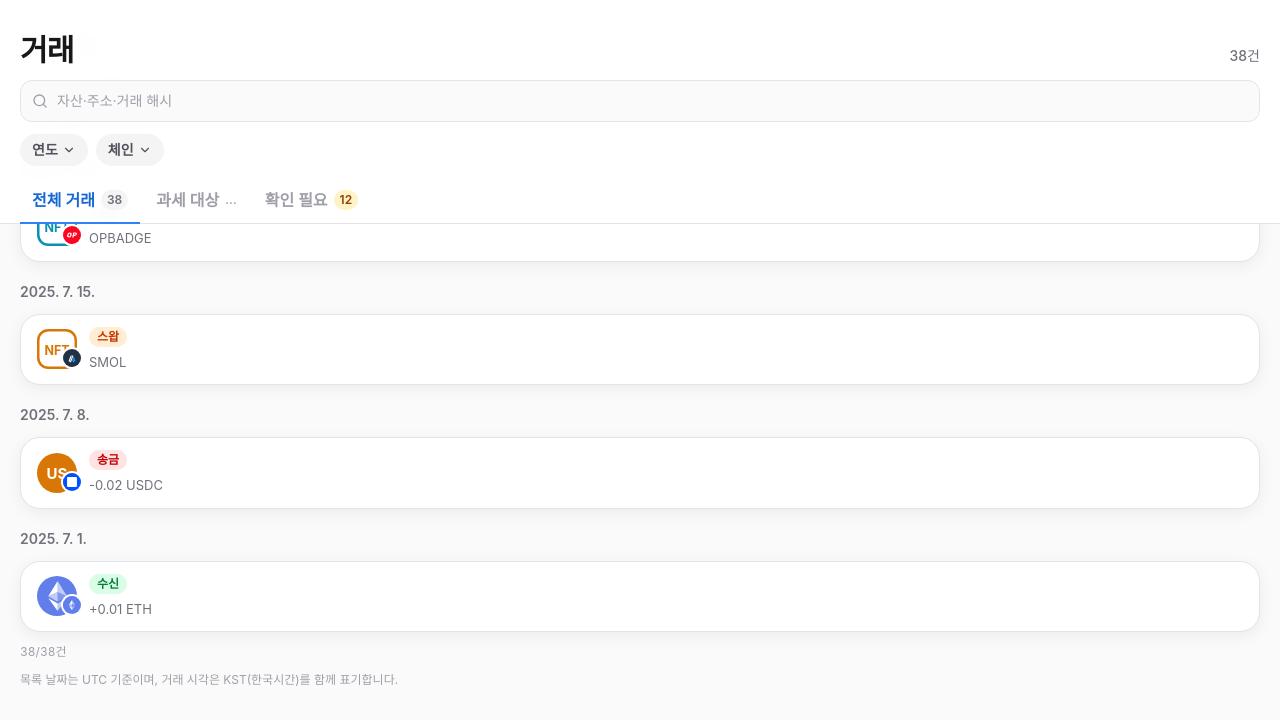
3세대 P1 경계 › 믿을 기간이 없으면 상세의 파생 계산도 돌리지 않는다
The width and height of the screenshot is (1280, 720).
(page scrolled)
Click the text "+0.01 ETH" at (120, 608), box [89,600,152,616]
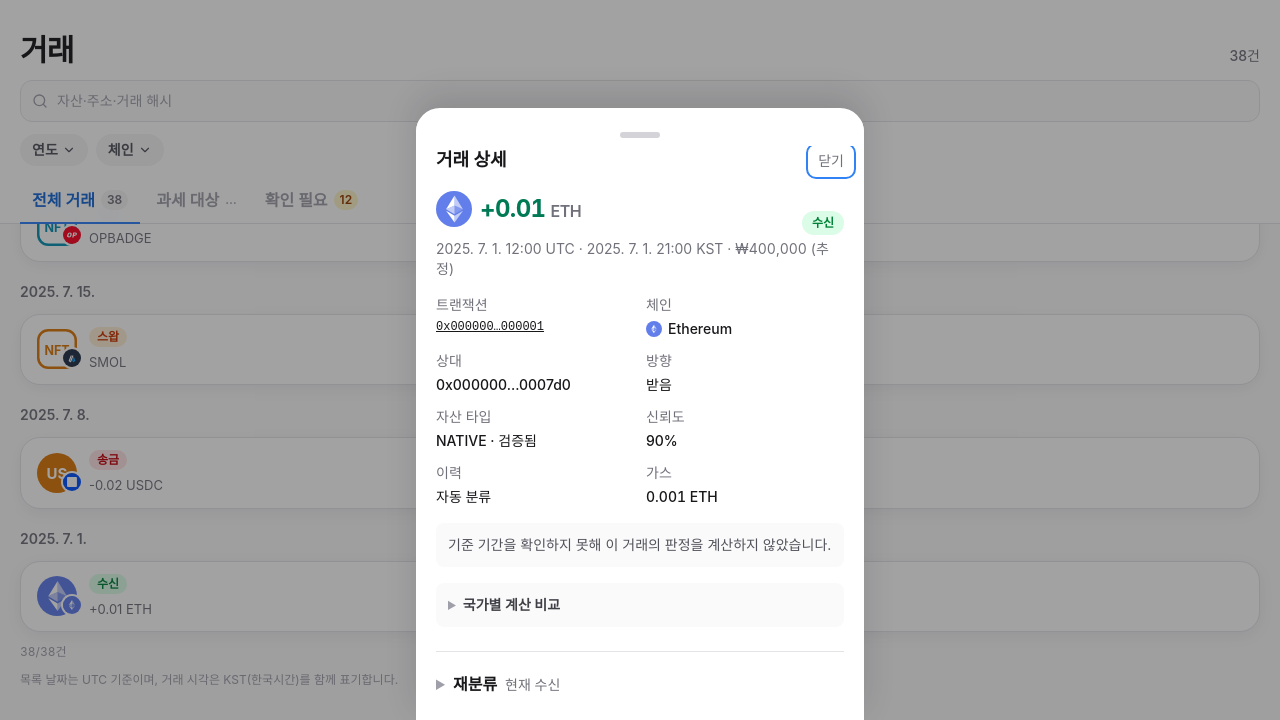
Check: the heading "거래 상세" is shown, box [436,146,506,174]
Check: the heading "국가별 계산 비교" is shown, box [463,596,560,613]
